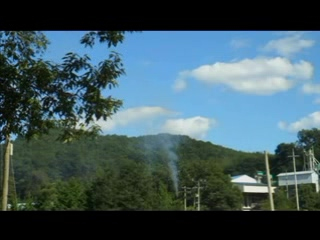smoke: (146, 134, 184, 199)
